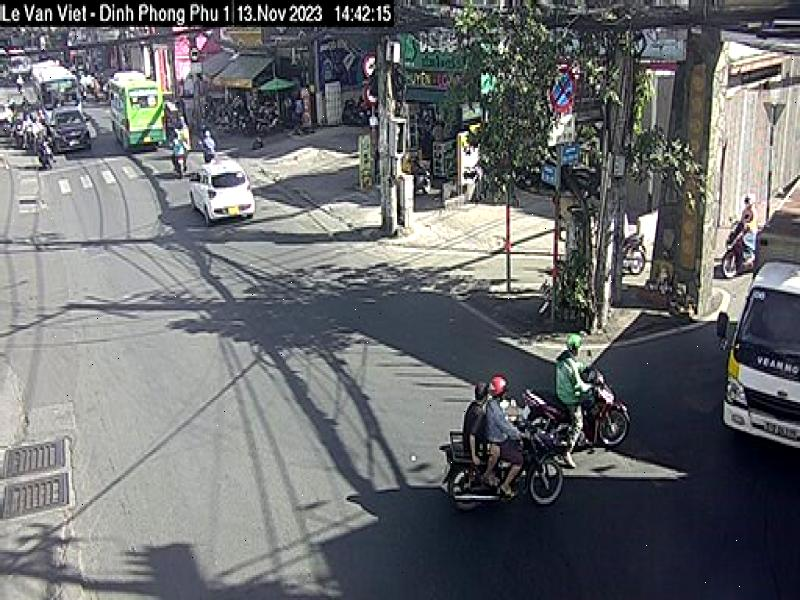bus: (720, 171, 800, 456), (105, 65, 170, 161)
